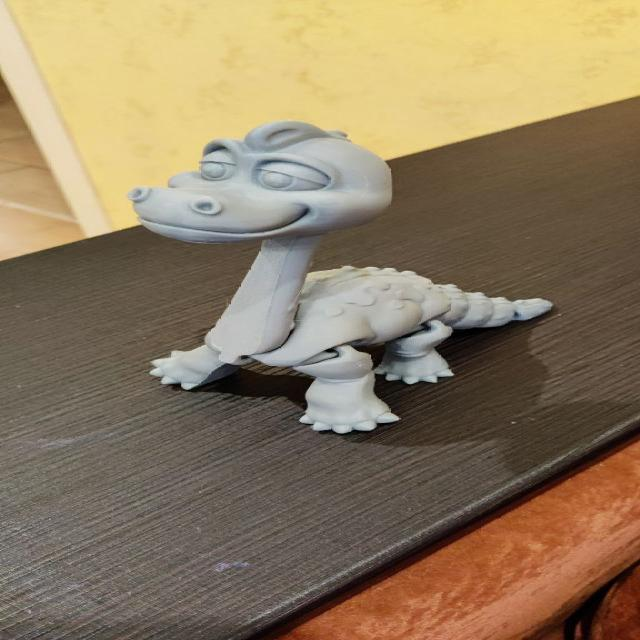Without deffect: (127, 117, 558, 450)
